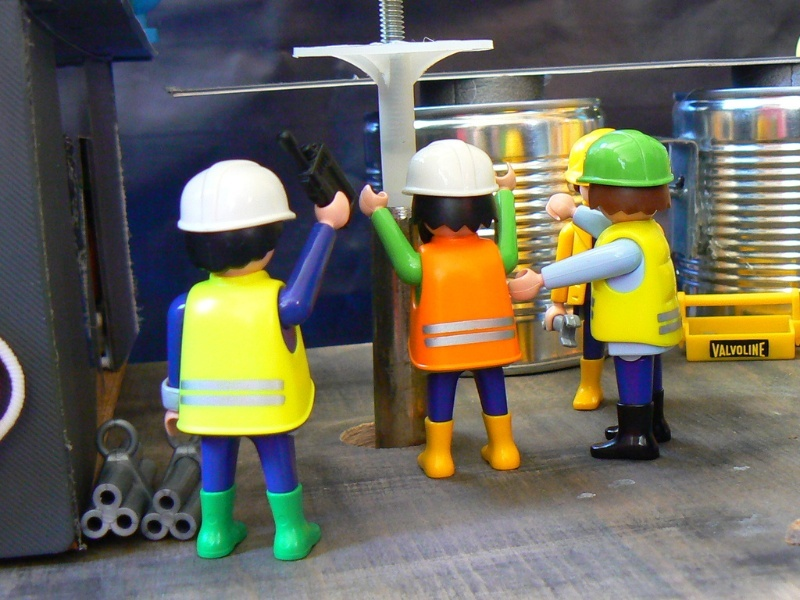Baret: (175, 158, 296, 233), (403, 140, 498, 197), (582, 129, 675, 184)
